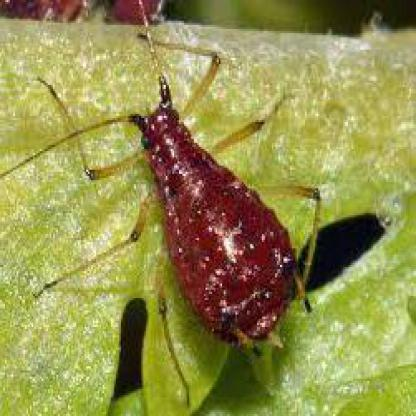uroleucon compositae: (6, 4, 320, 357)
